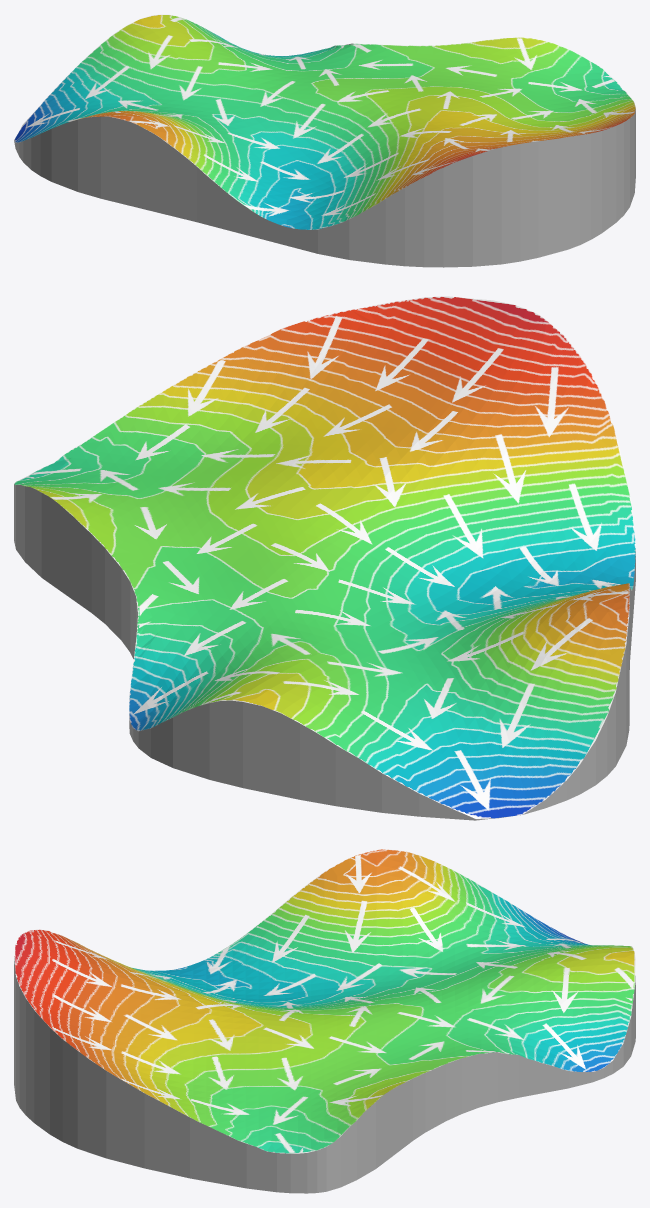
The picture shows the model from 3 angles, top to bottom: view 1: azimuth 30°, elevation 25°; view 2: azimuth 150°, elevation 25°; view 3: azimuth 270°, elevation 25°; orthographic projection. The views are drawn at different scales.
Bounding box in the file's own units: 4.56 × 1.04 × 4.51.
Materials: 2 (1 with a texture image).
